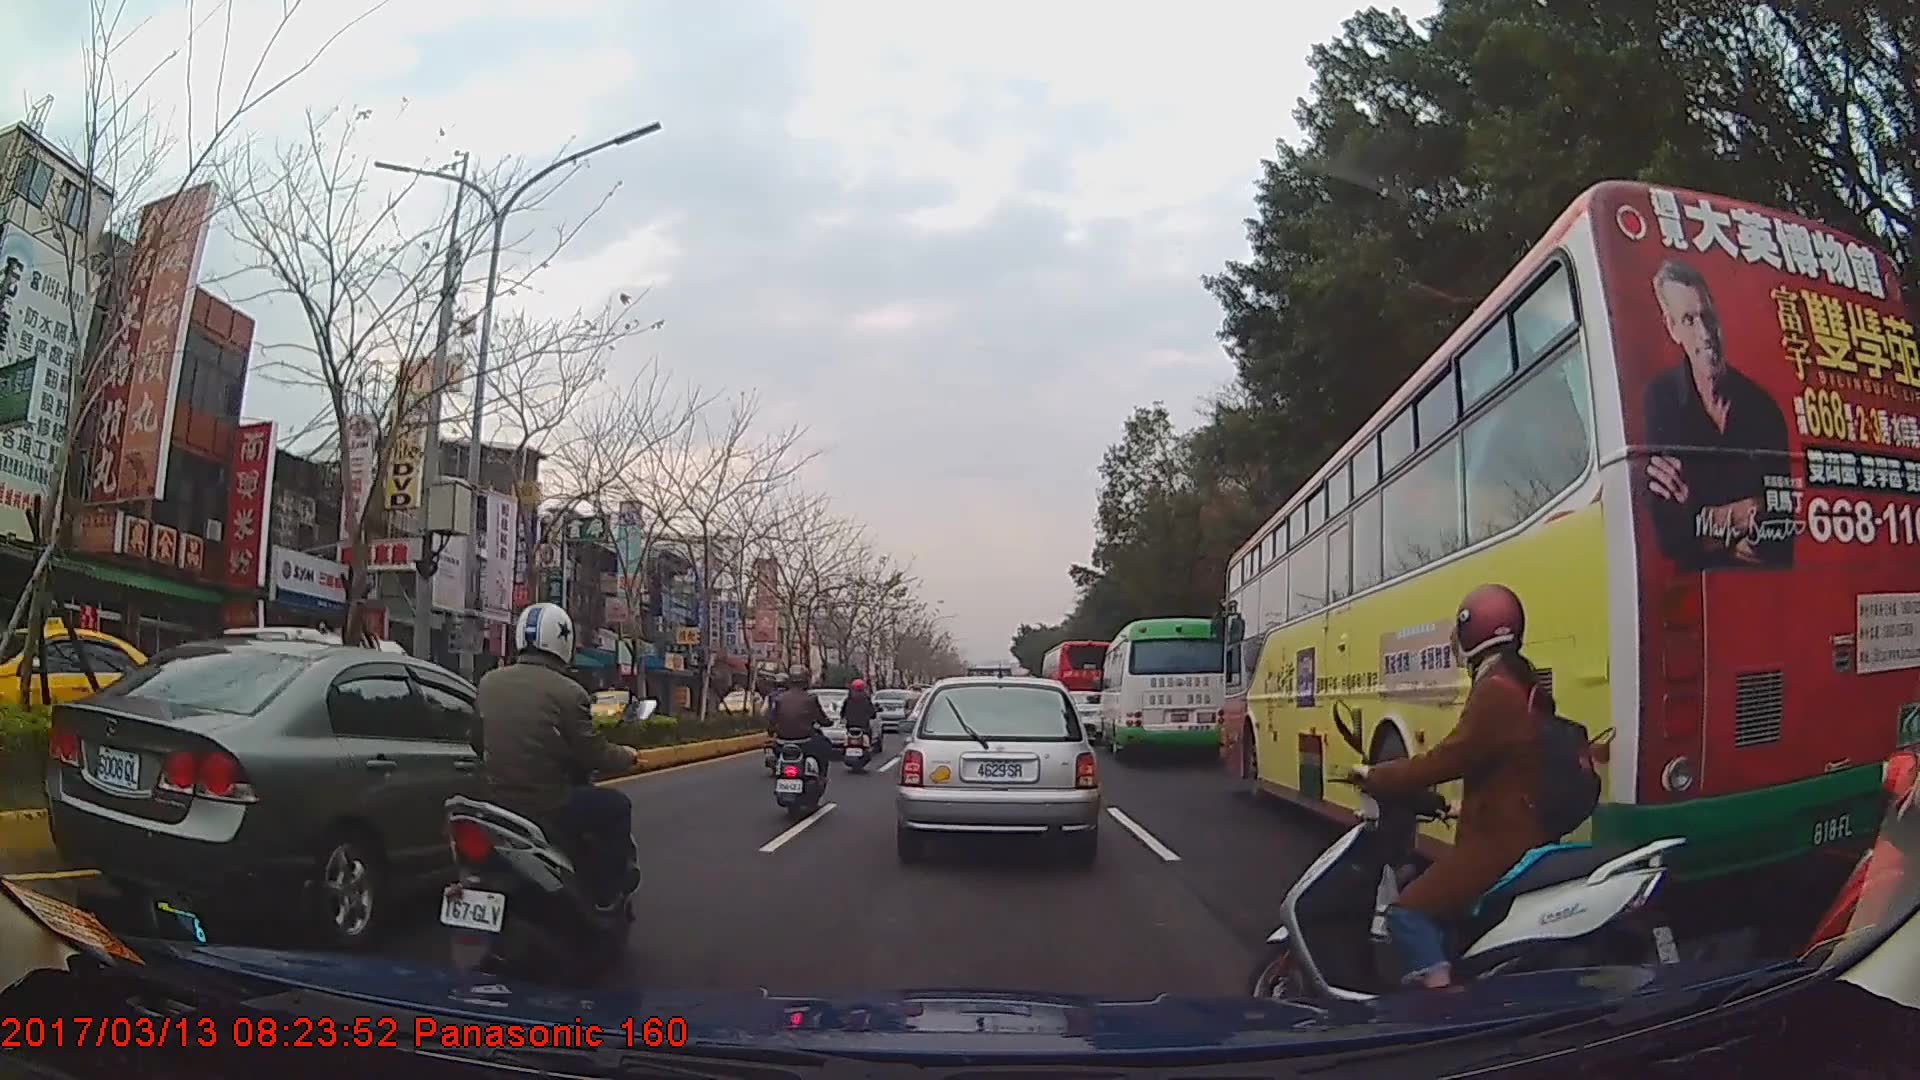rider: (1240, 583, 1688, 1041), (430, 603, 648, 987), (765, 662, 832, 819), (839, 676, 879, 776)
vehicle: (1222, 177, 1920, 902), (44, 635, 585, 942), (896, 673, 1099, 861), (0, 614, 190, 770), (1098, 616, 1227, 762), (1037, 636, 1117, 733), (787, 686, 882, 762), (564, 684, 644, 735)
